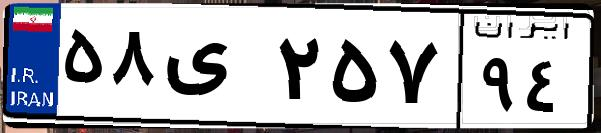2: (270, 28, 330, 110)
4: (525, 38, 570, 115)
5: (330, 28, 385, 110), (57, 26, 110, 100)
7: (385, 28, 445, 110)
8: (110, 28, 158, 98)
9: (475, 38, 525, 113)
ی: (158, 20, 270, 120)
